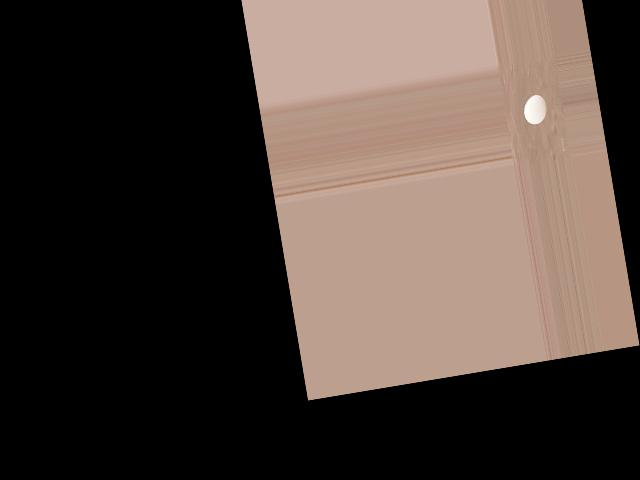egg: (521, 93, 548, 125)
